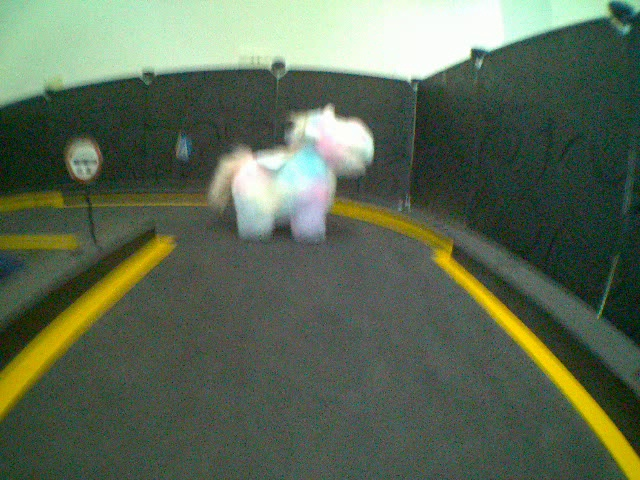unicorn: (208, 104, 375, 243)
